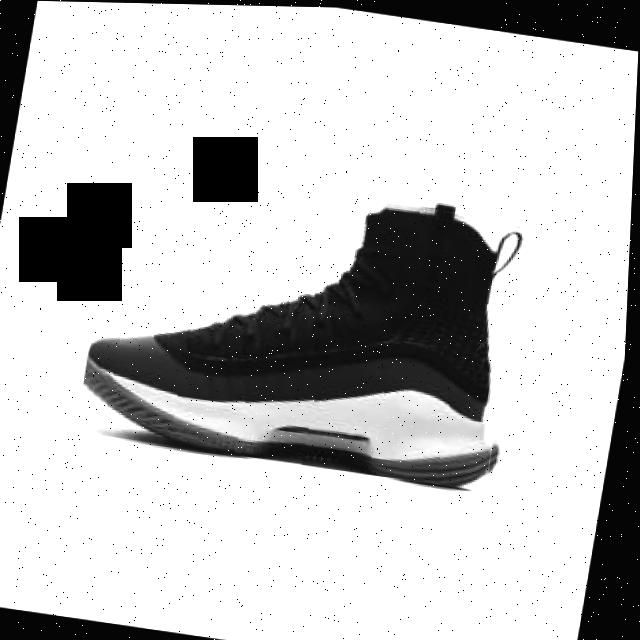shoe: (77, 157, 541, 490)
